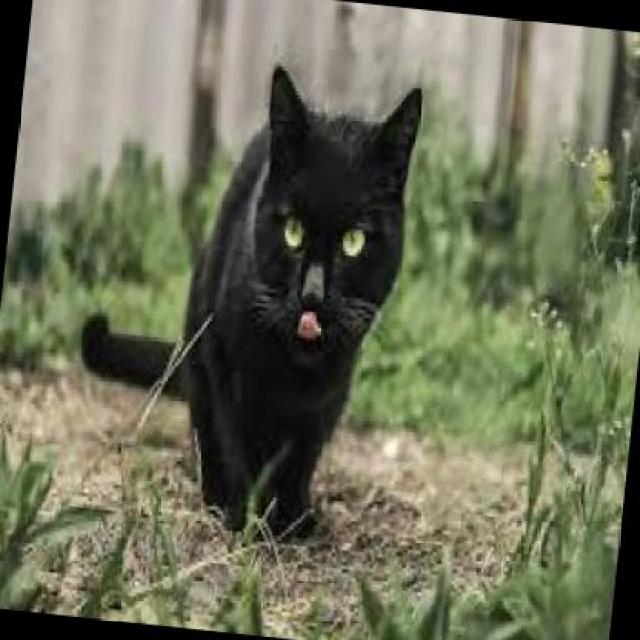animals: (59, 40, 438, 543)
